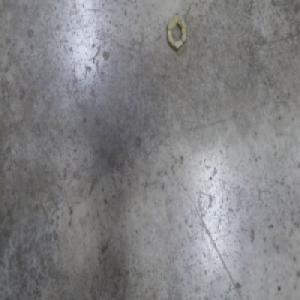Nut: (167, 11, 187, 51)
